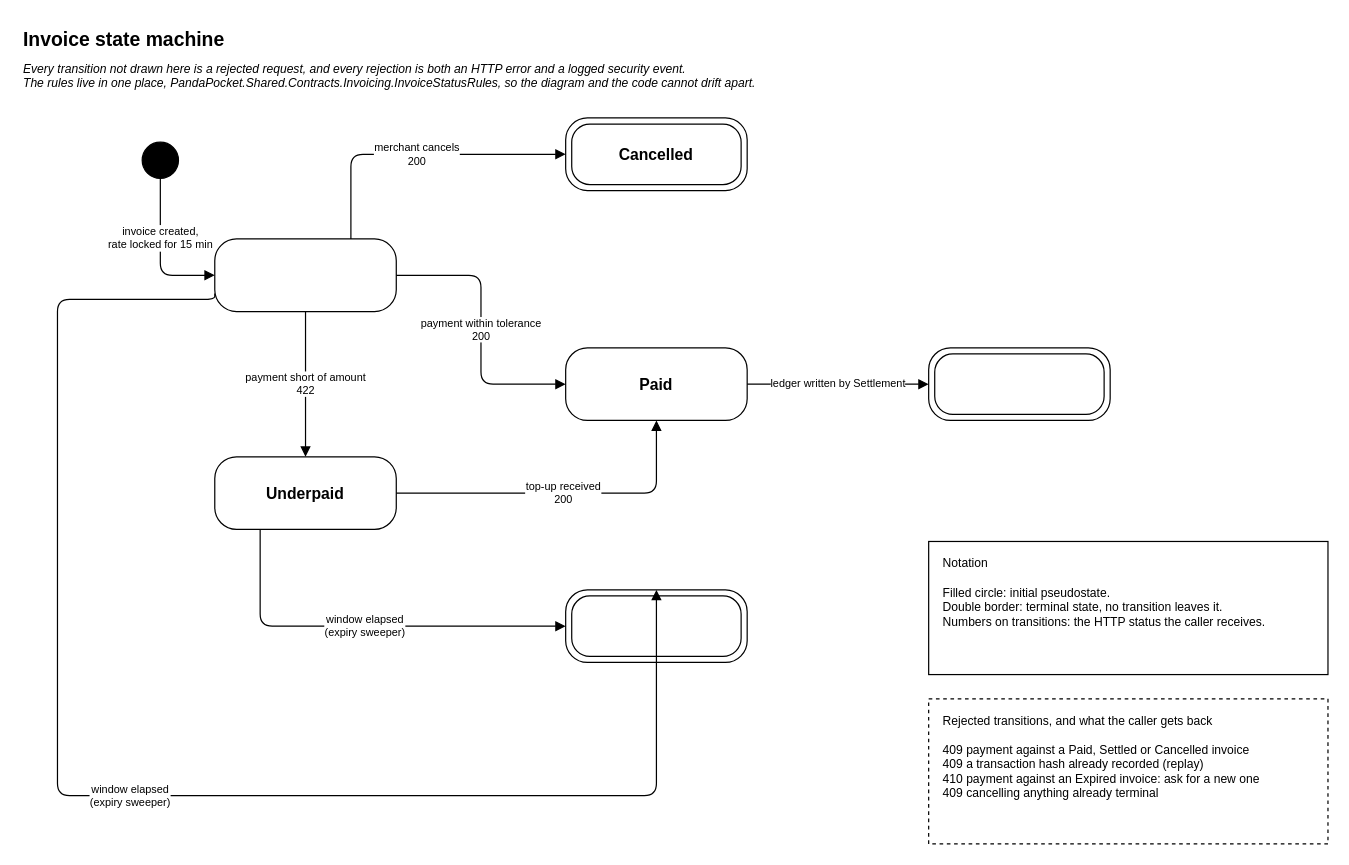
Image size: 1349x865. Some labels were removed from this diagram. The shapes that lost their labels are listed below. From the top down, each one's box as (x1, y1, x2, y2) in pixels, then its label:
(214, 238, 396, 312): Pending
(927, 347, 1110, 420): Settled
(564, 589, 747, 662): Expired
